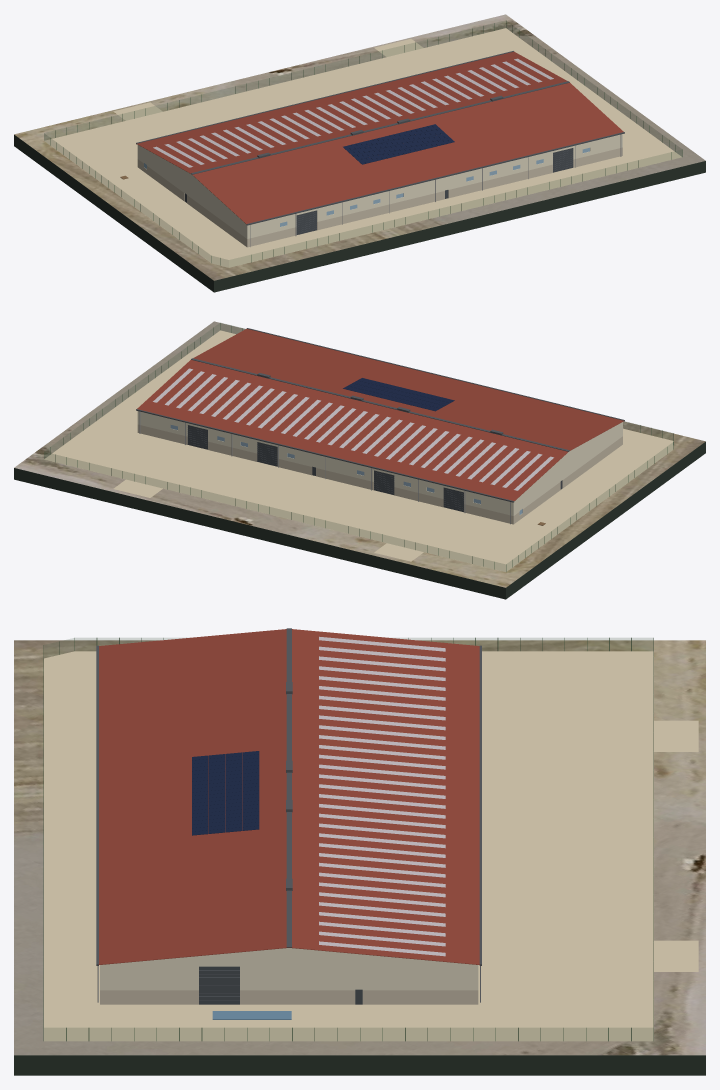
Rendered from nave_1-100.glb.
3 renders of one model, top to bottom at view 1: azimuth 30°, elevation 25°; view 2: azimuth 150°, elevation 25°; view 3: azimuth 270°, elevation 25°, orthographic. The views are drawn at different scales.
Parts seen in each view (by area): view 1: Nave_5000m2; view 2: Nave_5000m2; view 3: Nave_5000m2.
Part boxes in pixels (x1=…): Nave_5000m2: x1=14, y1=14, x2=705, y2=292; Nave_5000m2: x1=14, y1=321, x2=705, y2=599; Nave_5000m2: x1=14, y1=628, x2=705, y2=1075.
Size of the model in its own units: 1.32 by 0.1234 by 0.93.
20 materials, 1 textured.
